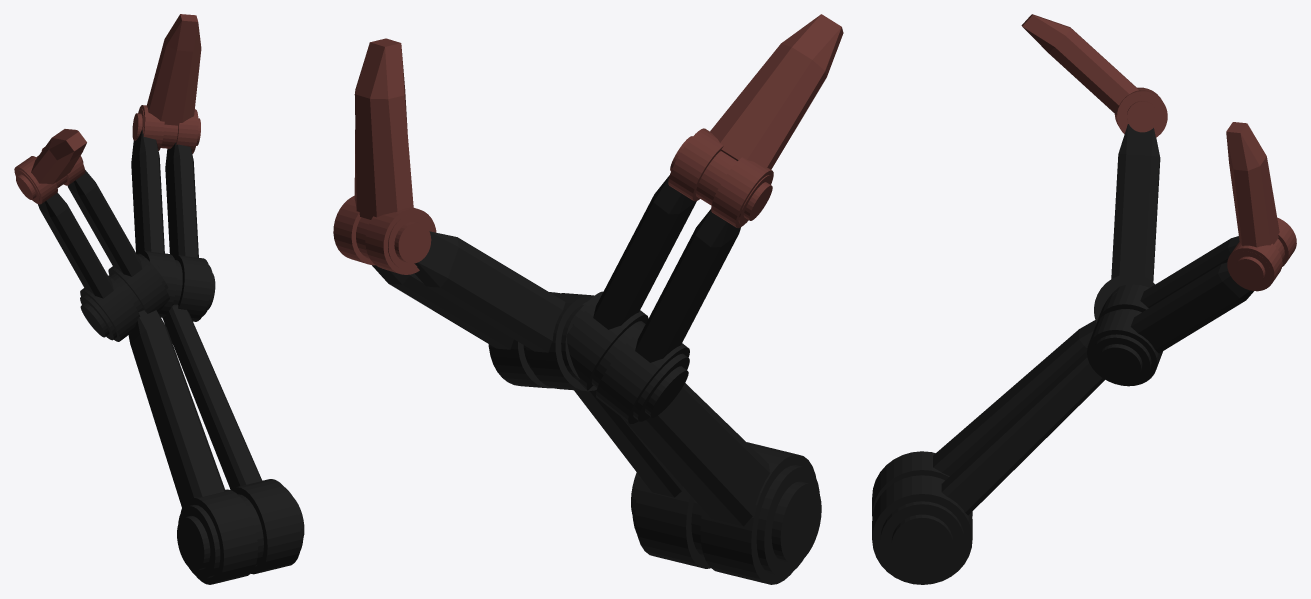
The model's file is item_trigger_finger.glb.
3 views of the same model, side by side, from view 1: azimuth 30°, elevation 25°; view 2: azimuth 150°, elevation 25°; view 3: azimuth 270°, elevation 25° (orthographic). The views are drawn at different scales.
Visible parts, largest first — view 1: MiddleMid.001; view 2: MiddleMid.001; view 3: MiddleMid.001.
Boxes of the visible parts, x1=… form: MiddleMid.001: x1=14, y1=14, x2=304, y2=584; MiddleMid.001: x1=333, y1=14, x2=843, y2=584; MiddleMid.001: x1=872, y1=14, x2=1296, y2=584.
Bounding box in the file's own units: 0.3341 × 0.5844 × 0.4621.
